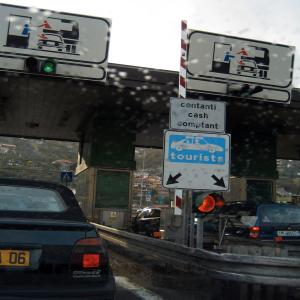Vehicle-registration-plate: (3, 247, 31, 275), (277, 231, 300, 238)
